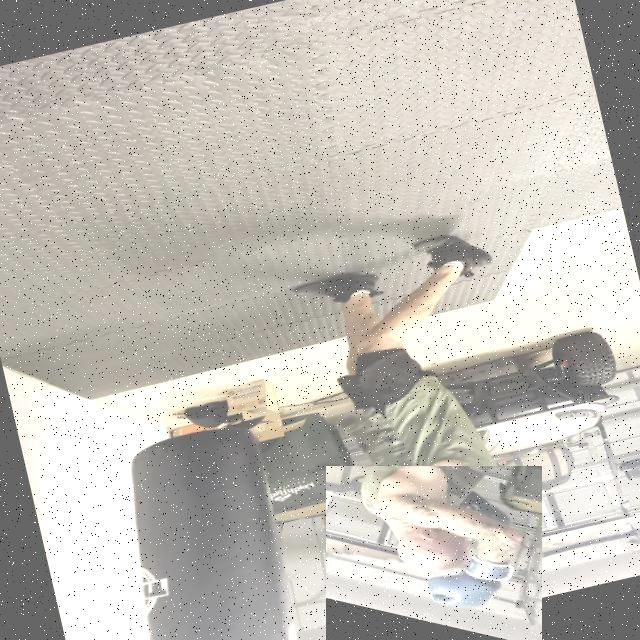punch: (326, 466, 542, 640)
